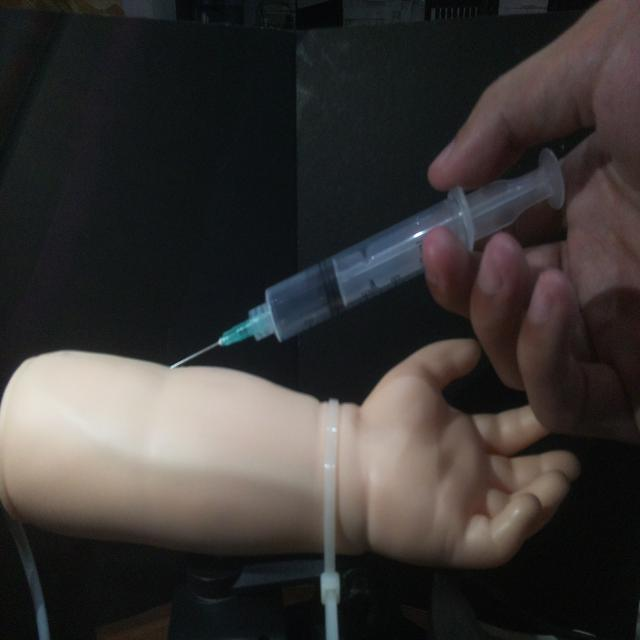23deg: (165, 142, 570, 372)
